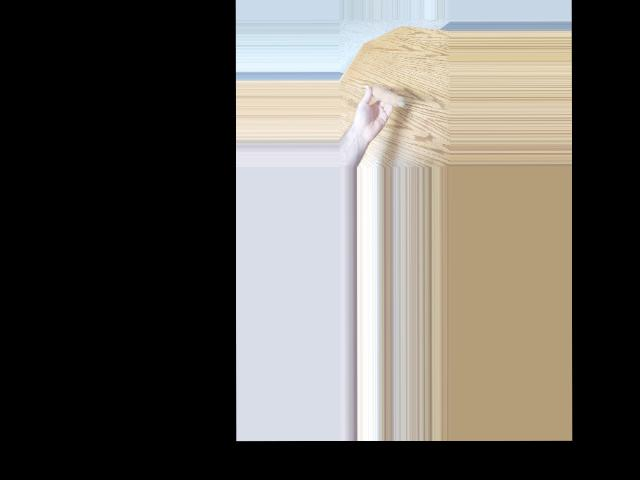sweet_potato: (369, 84, 405, 109)
